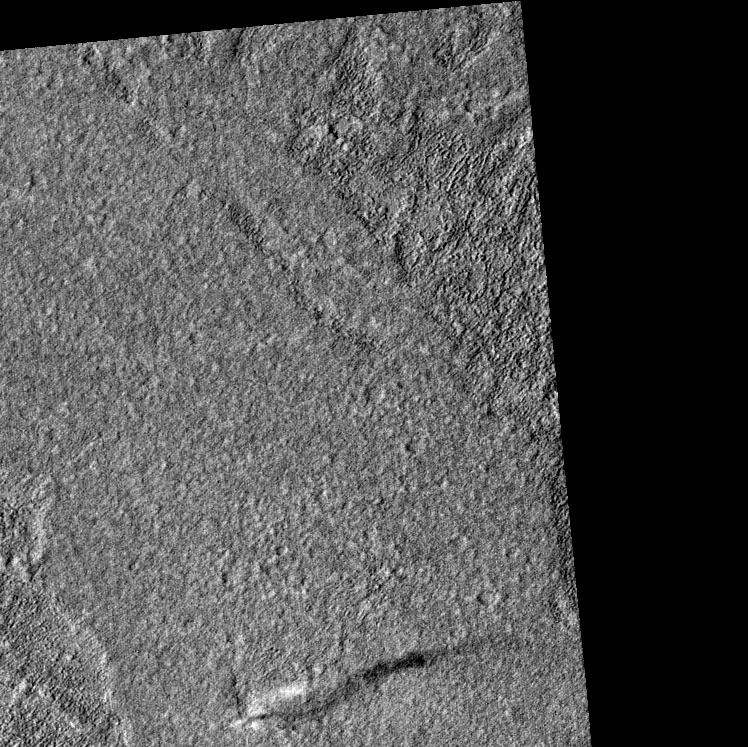dust_devil: (228, 636, 486, 735)
